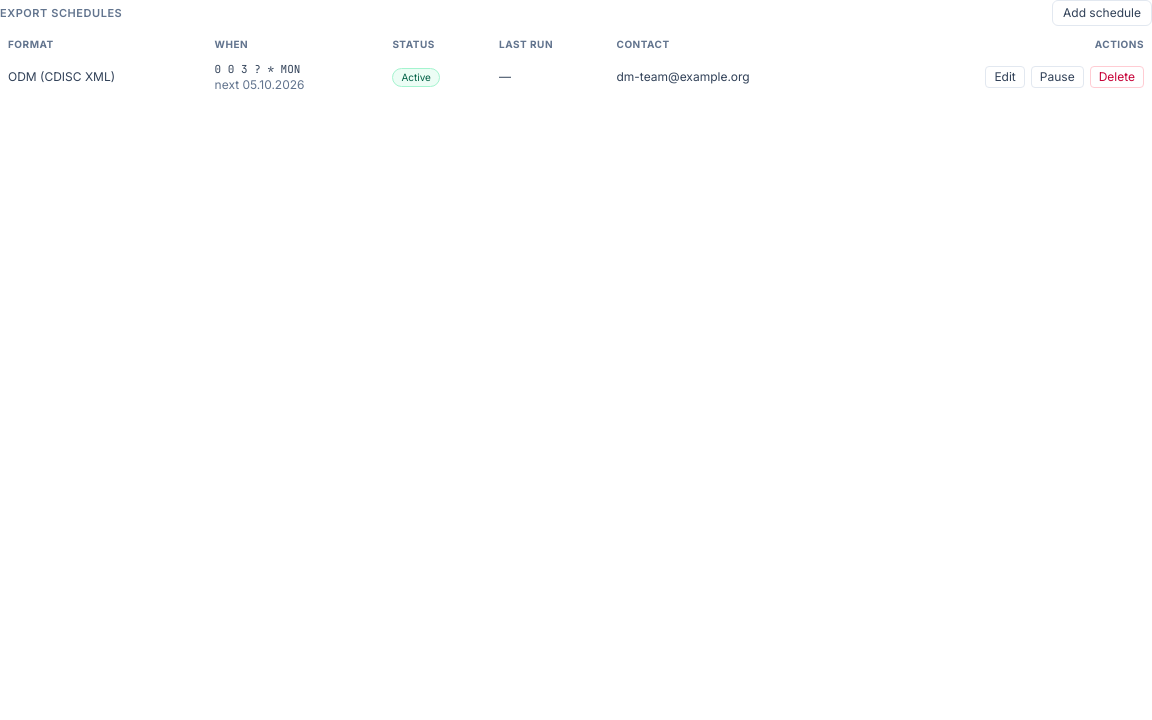
Test: DatasetSchedules › edits a schedule and shows what the server saved
Click the button with test id "schedule-edit" at (1005, 77), box [985,66,1025,88]
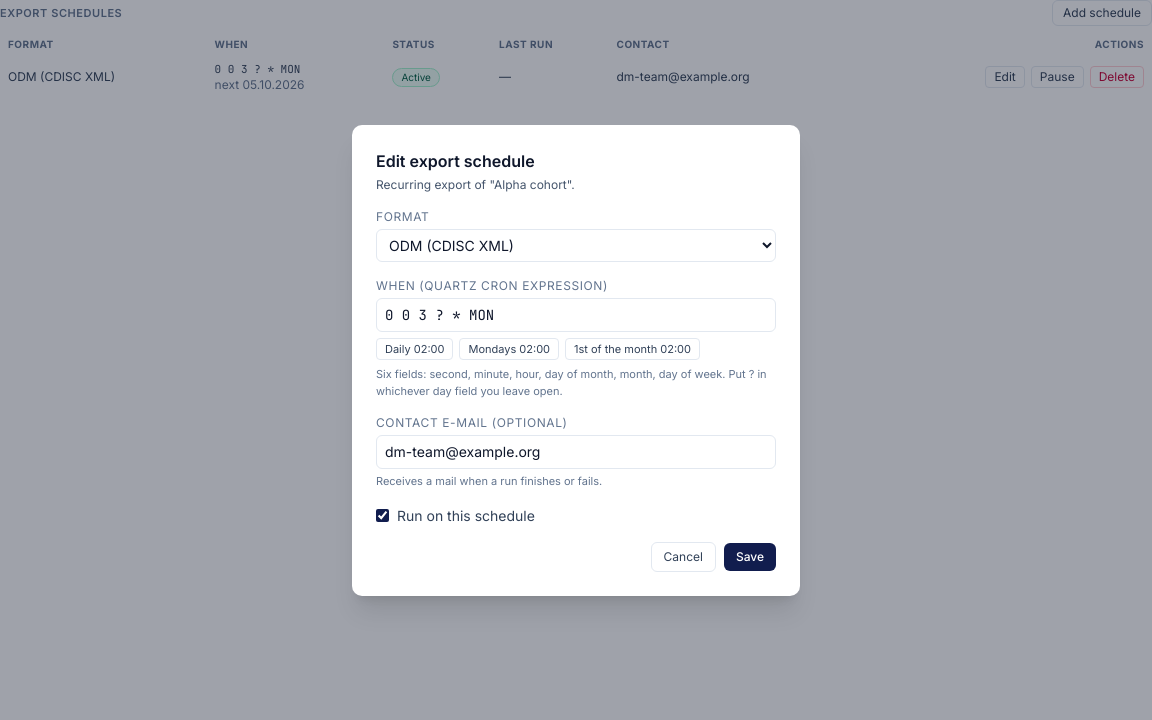
expect the field with test id "schedule-cron" holds "0 0 3 ? * MON": met
Replace the text in the field with test id "schedule-cron" with "0 30 4 * * ?" at (576, 314), box [376,298,776,332]
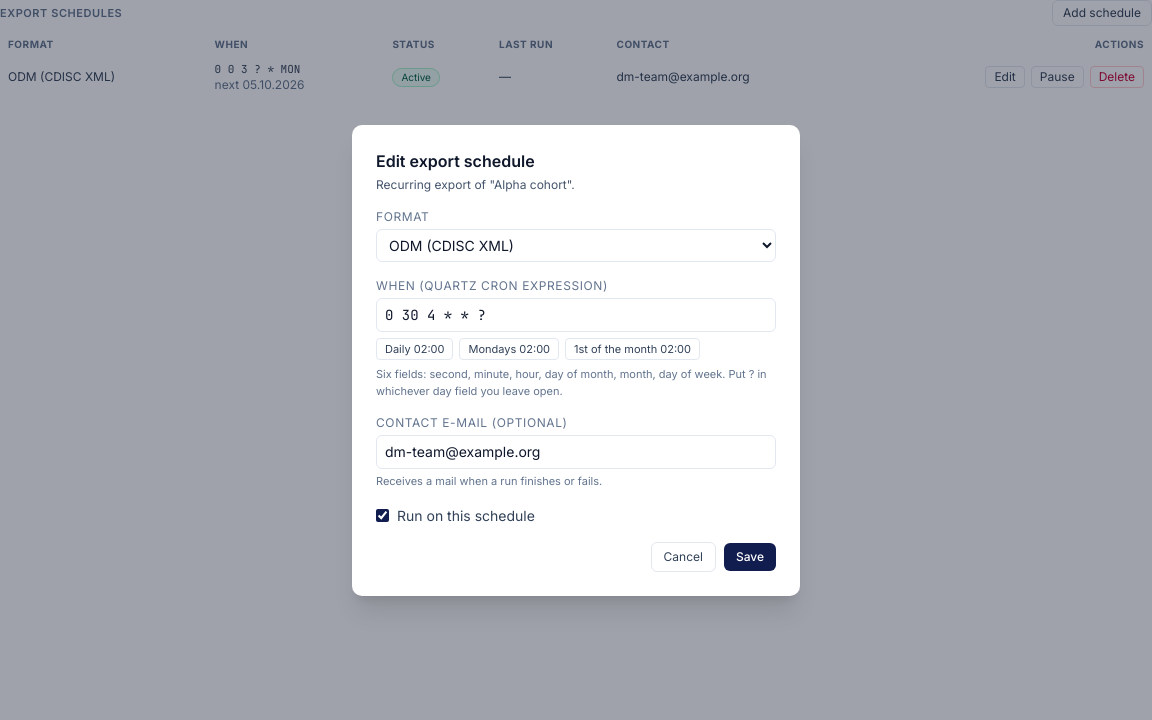
Clear the field with test id "schedule-email" at (576, 452), box [376,435,776,469]
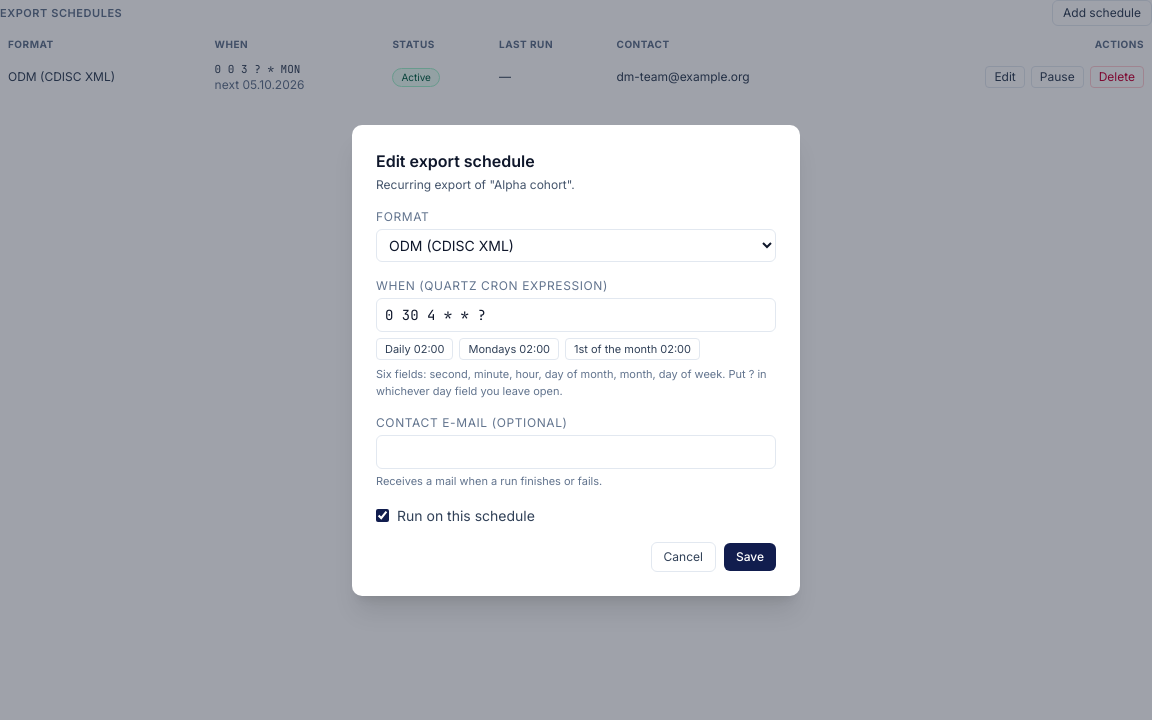
Click the button with test id "schedule-save" at (750, 556), box [724,542,776,570]
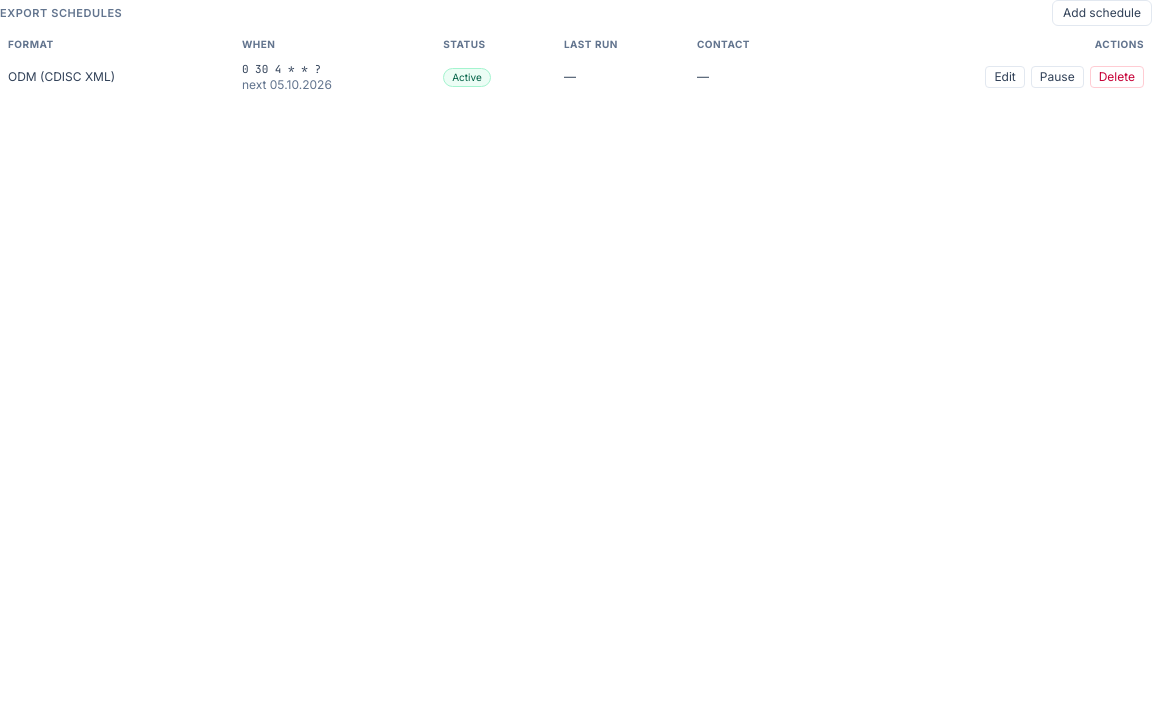
expect the row with test id "schedule-5" shows "0 30 4 * * ?": met, box [242,62,321,76]
expect the cell with test id "schedule-5" no longer shows "dm-team@example.org": met
